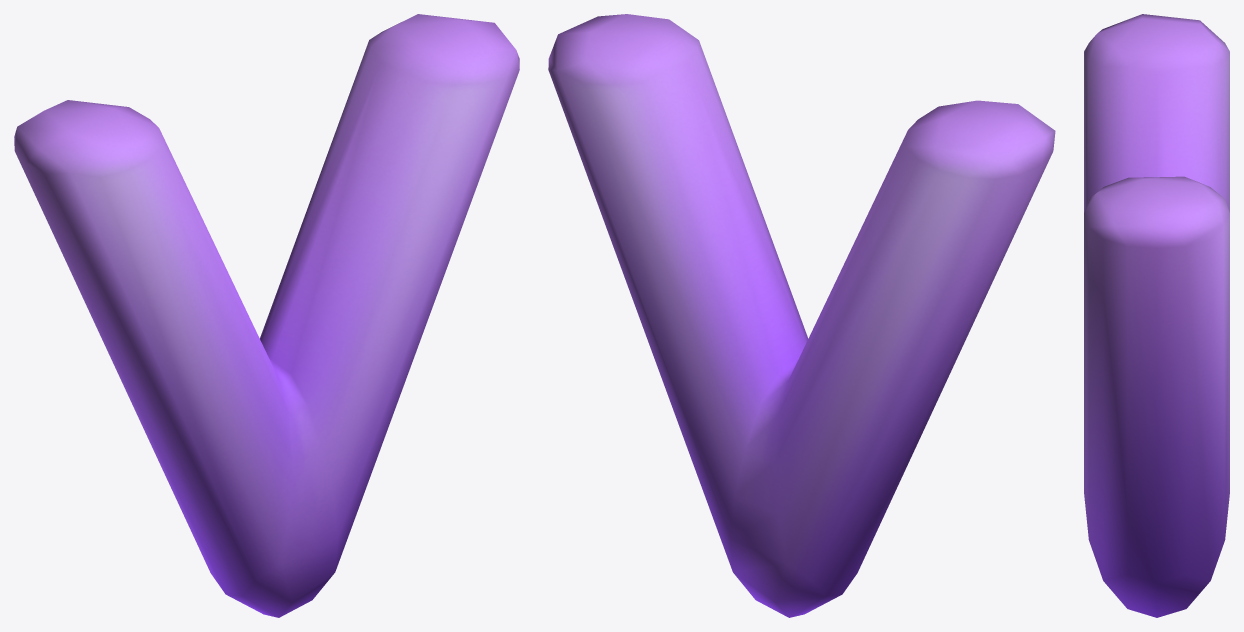
3 views of the same model, side by side, from view 1: azimuth 30°, elevation 25°; view 2: azimuth 150°, elevation 25°; view 3: azimuth 270°, elevation 25° (orthographic). The views are drawn at different scales.
Parts seen in each view (by area): view 1: Processed_Mesh0_Geometry; view 2: Processed_Mesh0_Geometry; view 3: Processed_Mesh0_Geometry.
Boxes of the visible parts, left/top/right/bottom form: Processed_Mesh0_Geometry: left=14, top=14, right=519, bottom=617; Processed_Mesh0_Geometry: left=548, top=14, right=1055, bottom=617; Processed_Mesh0_Geometry: left=1084, top=14, right=1229, bottom=617.
Size of what is drawn, in the model's own units: 0.0759 by 0.0809 by 0.0214.
1 material, 1 textured.
